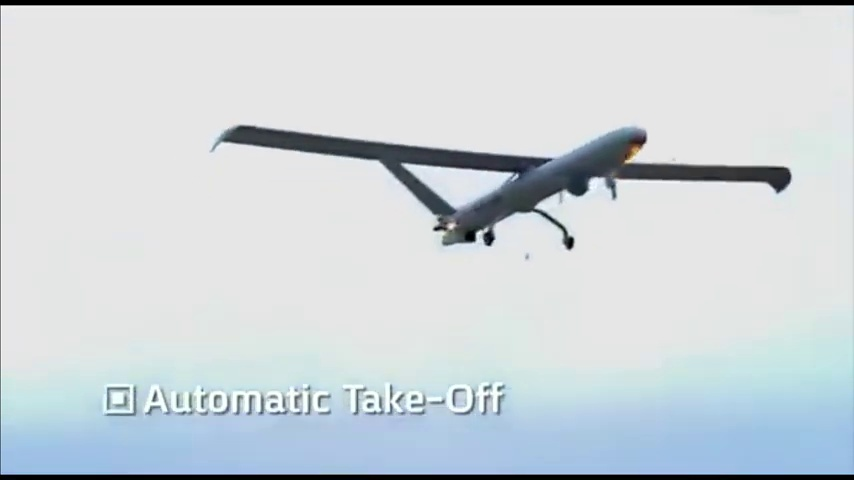military drone: (209, 125, 791, 251)
